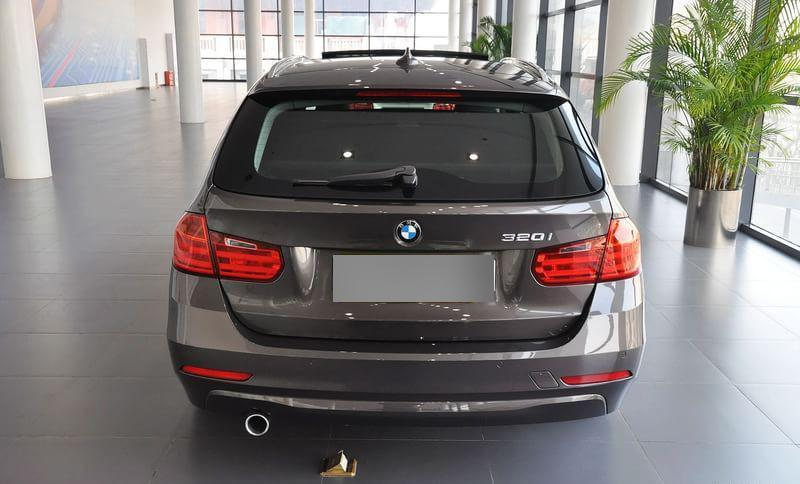Wagon: (165, 46, 646, 439)
